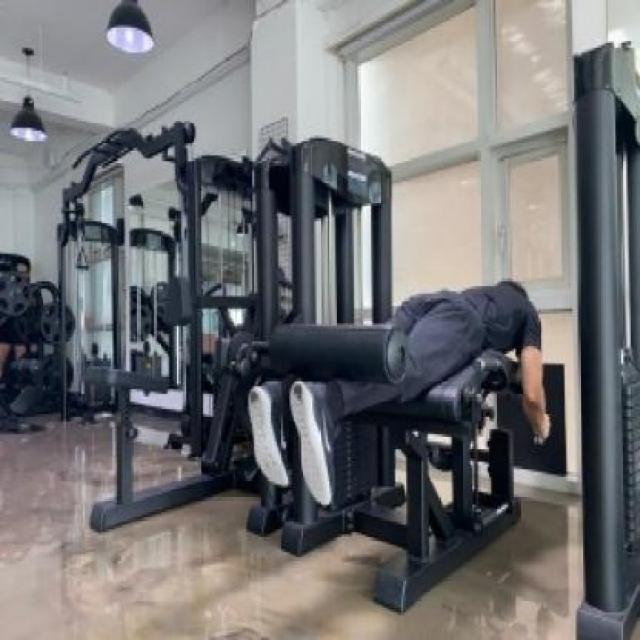reg curl machine: (203, 137, 551, 614)
